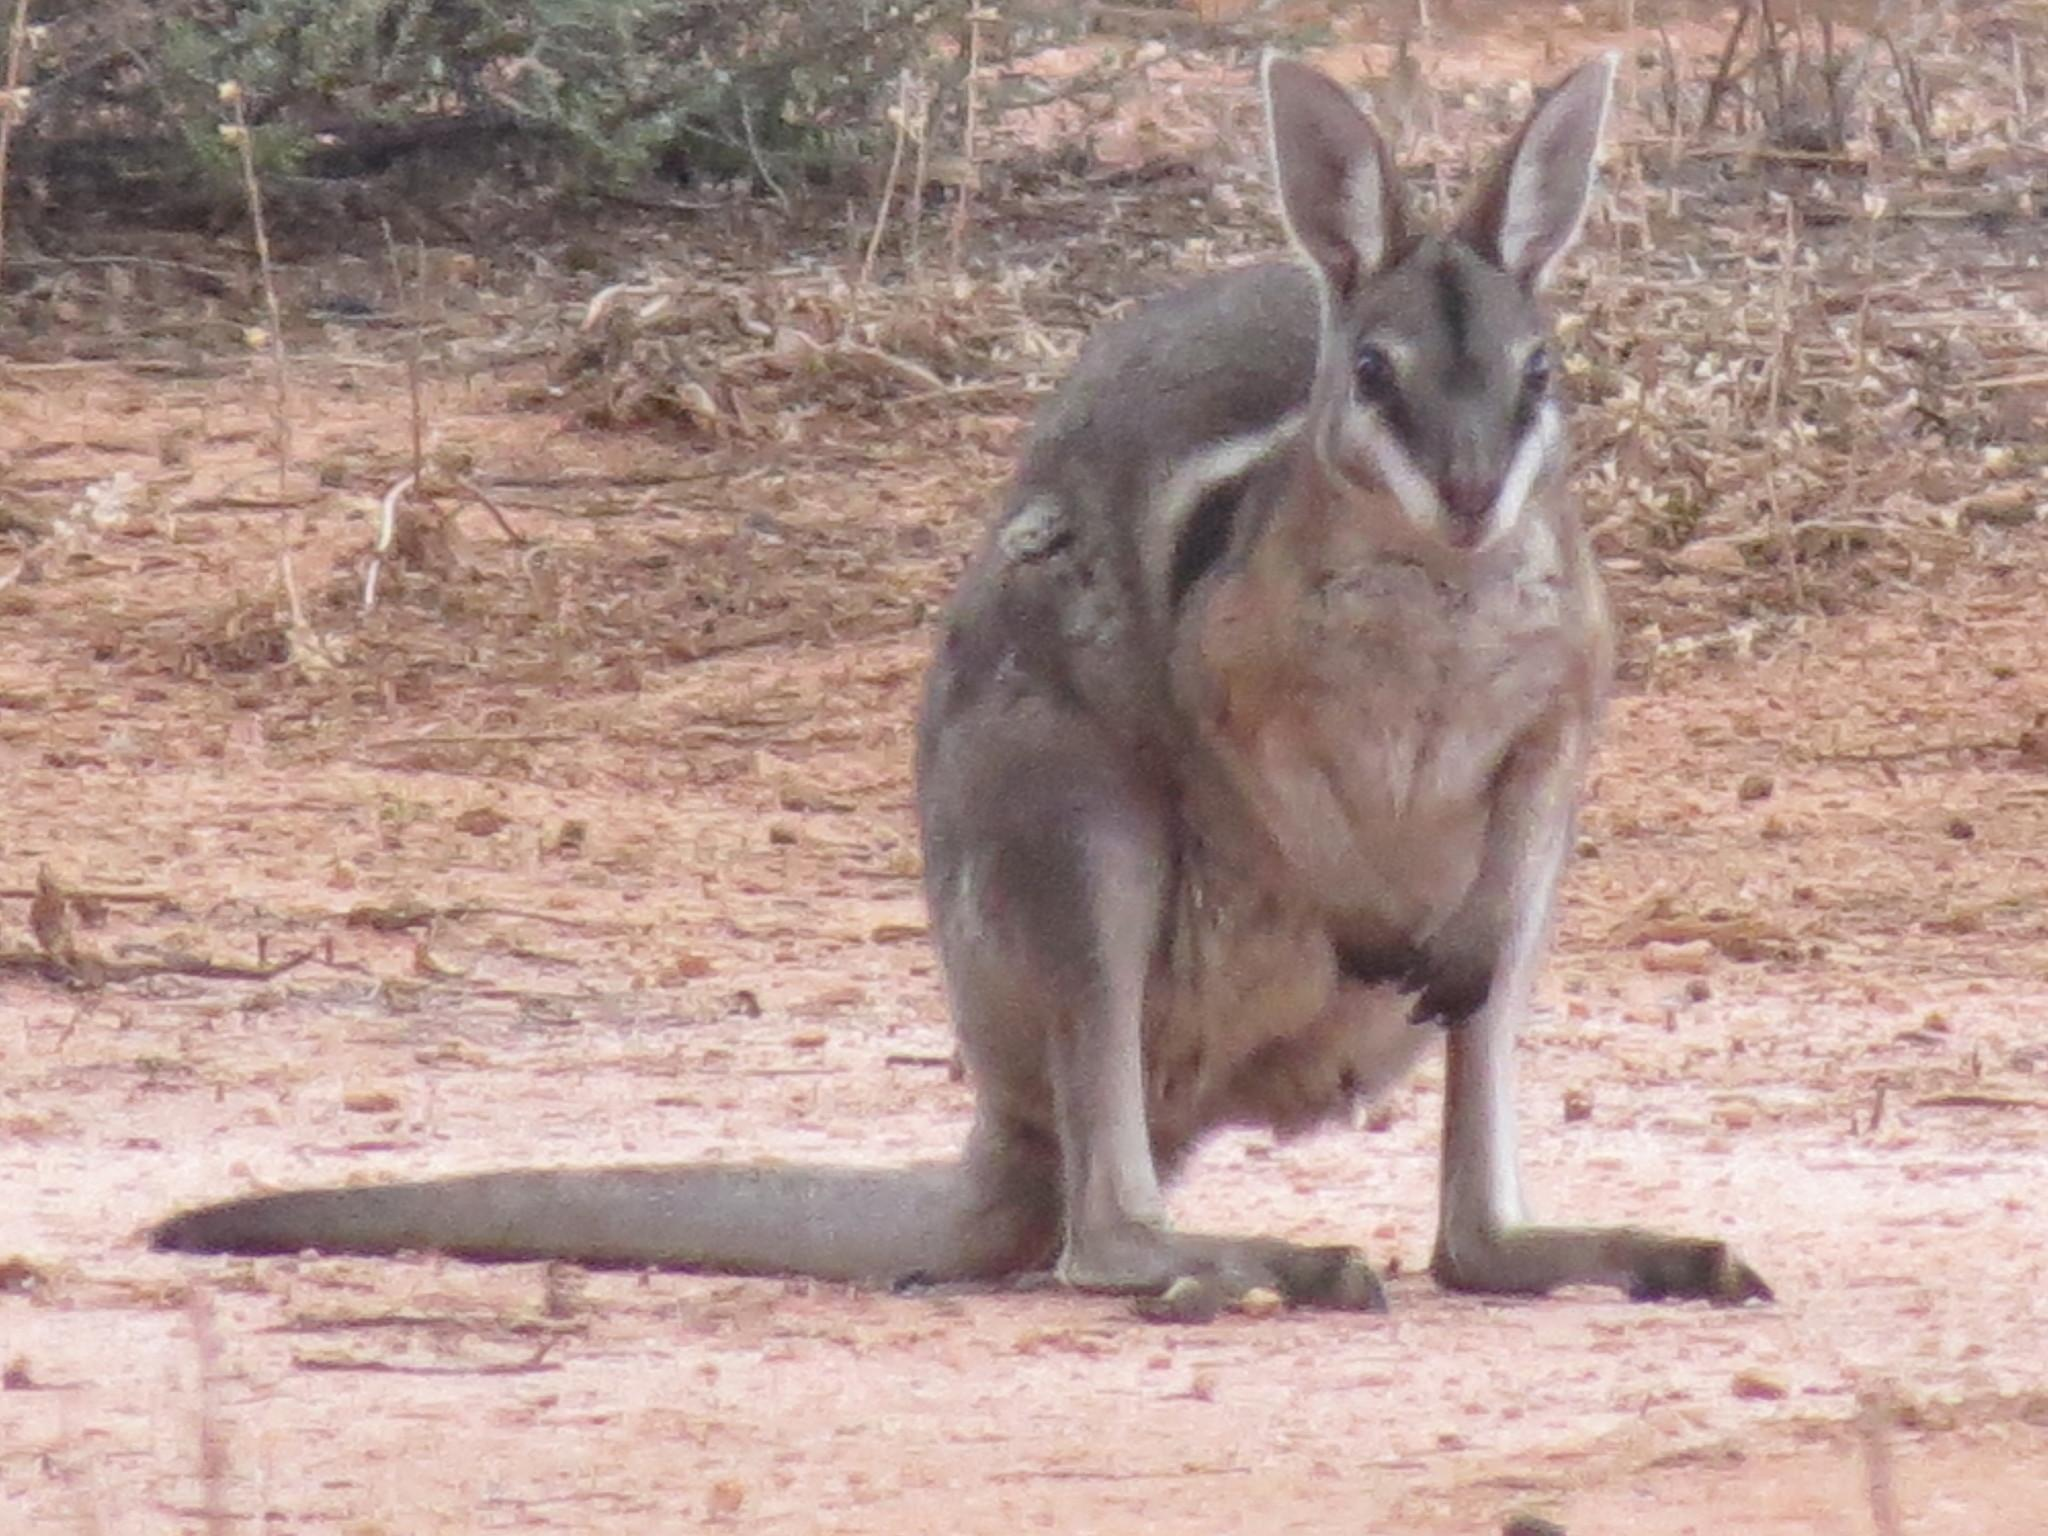Bridled-nail-tail wallaby: (144, 47, 1771, 1354)
